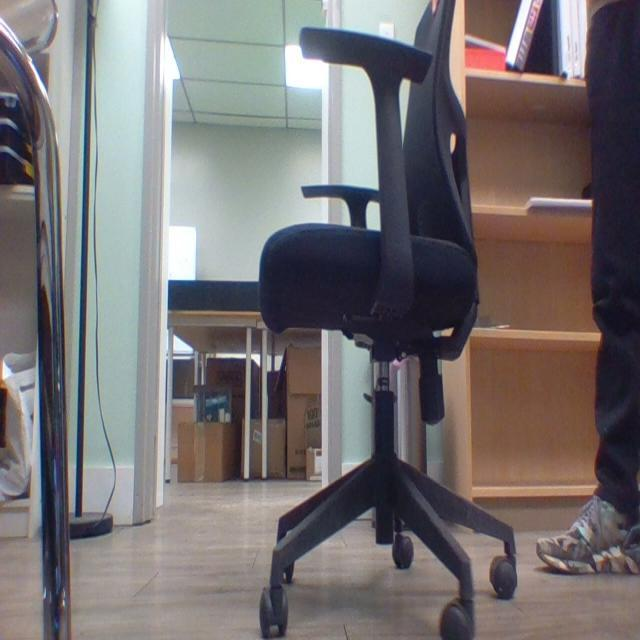chair: (248, 4, 524, 640)
